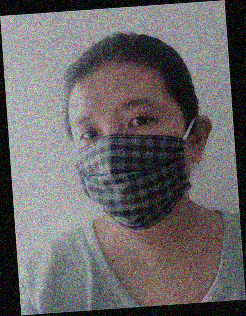with_mask: (72, 97, 192, 233)
